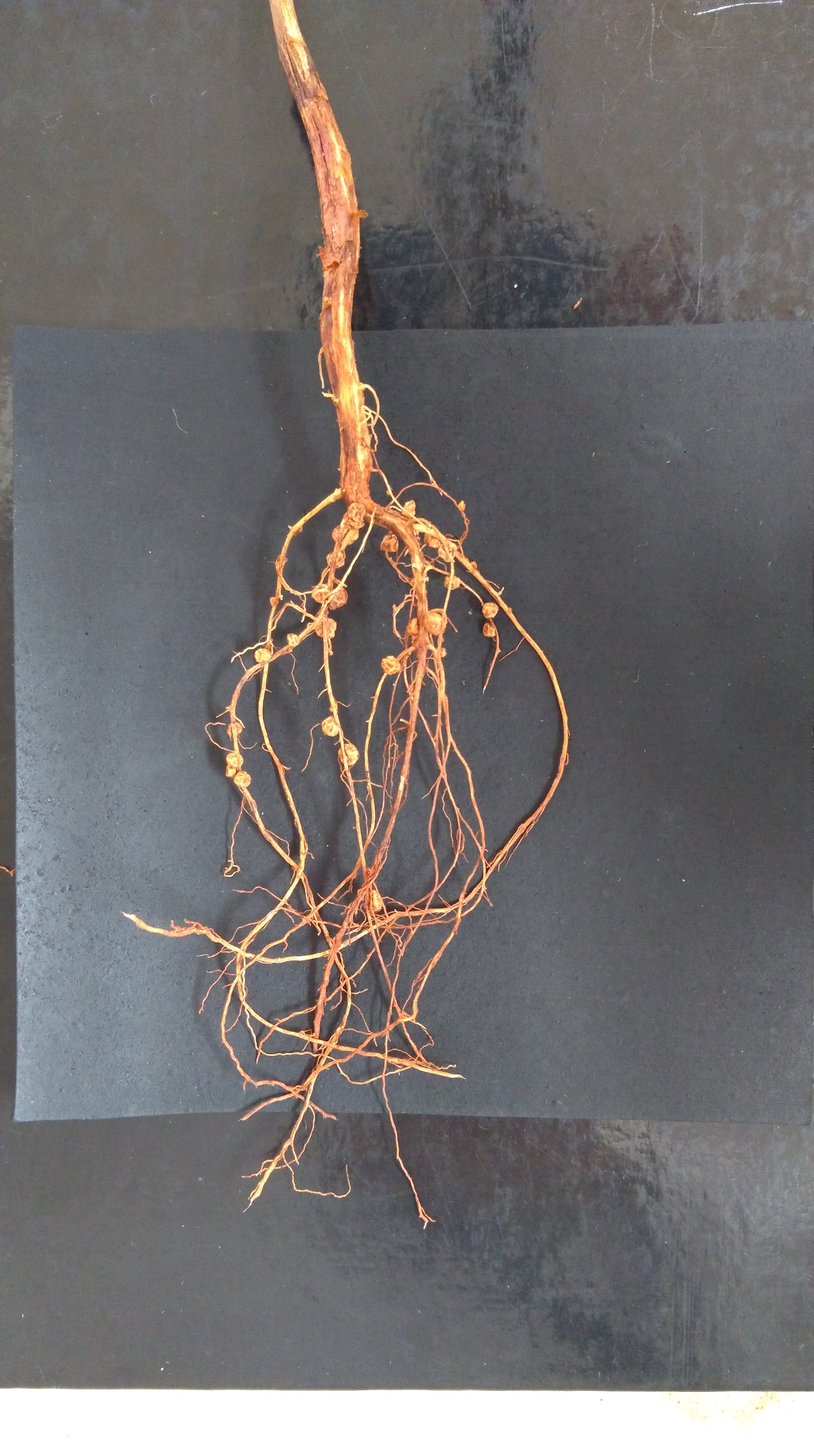nodule: (423, 612, 446, 636), (315, 616, 337, 638), (328, 586, 348, 610), (338, 744, 359, 765), (364, 890, 382, 912), (319, 245, 336, 268), (347, 502, 366, 522), (381, 655, 401, 674), (321, 716, 339, 737), (438, 543, 457, 562), (311, 583, 329, 603), (380, 534, 399, 552), (326, 550, 345, 568), (423, 532, 442, 548), (233, 771, 251, 787), (226, 752, 243, 768), (400, 500, 415, 518), (346, 527, 360, 545), (254, 648, 272, 662), (406, 618, 419, 637), (444, 575, 460, 590), (483, 602, 498, 618), (482, 622, 496, 637), (227, 722, 242, 736), (348, 518, 365, 529), (331, 524, 341, 542), (287, 633, 299, 647), (352, 209, 368, 219), (412, 529, 421, 545), (411, 633, 420, 649), (225, 765, 237, 777), (290, 525, 303, 536), (322, 296, 332, 309), (457, 500, 466, 511), (270, 597, 279, 606), (439, 647, 447, 657), (358, 382, 365, 391), (470, 561, 477, 569), (385, 489, 392, 495), (278, 594, 284, 601), (333, 398, 339, 403), (508, 607, 512, 613), (414, 593, 418, 599), (426, 576, 429, 582)
